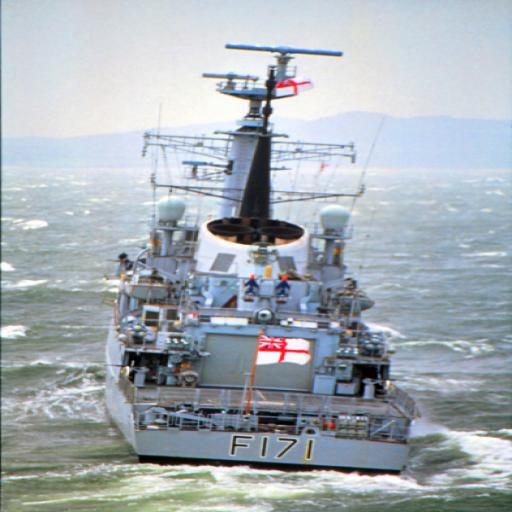Fragata: (103, 27, 449, 480)
